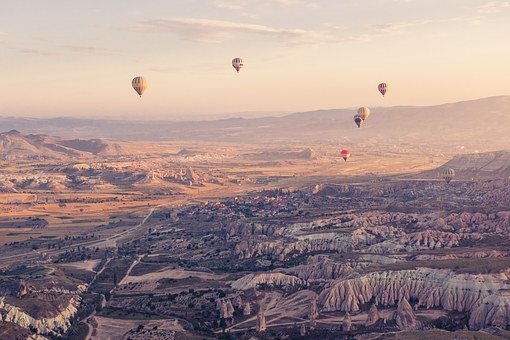field: (1, 124, 506, 338)
sky: (11, 1, 506, 114)
